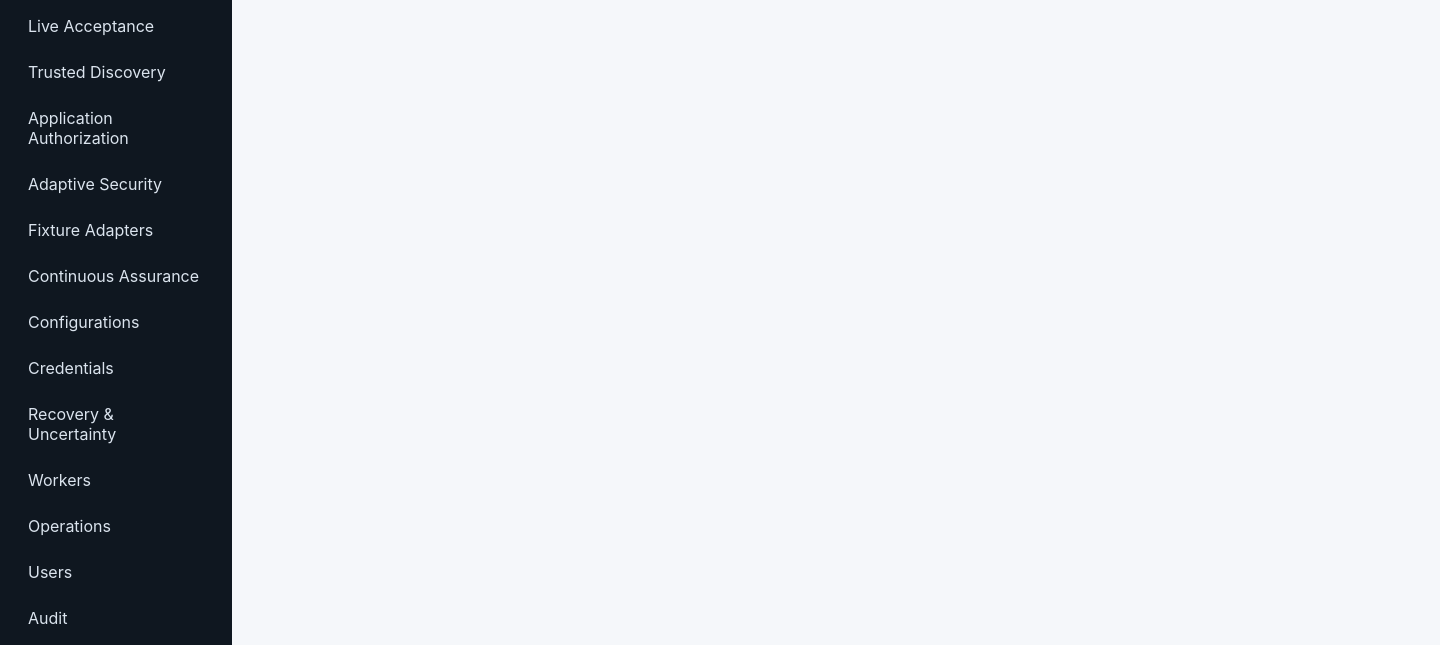
RouteCairn dashboard UI › opens continuous assurance and evidence governance as a managed dashboard workspace
This screenshot has width=1440, height=645.
(page scrolled)
Click the button "Continuous Assurance".
click(116, 276)  # box [16,256,216,296]
(page scrolled)
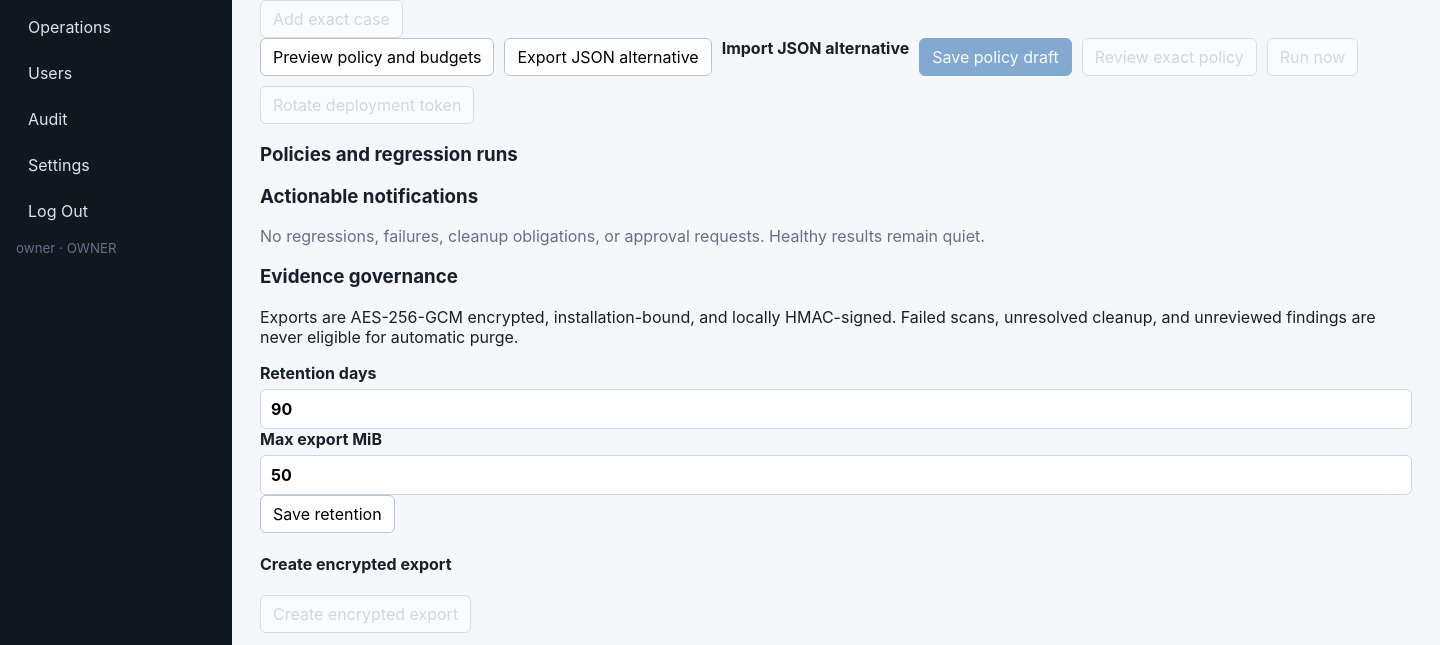
Expected: the button "Preview policy and budgets" is shown, [260,38,494,76]
Expected: the heading "Evidence governance" is shown, [260,265,458,288]
